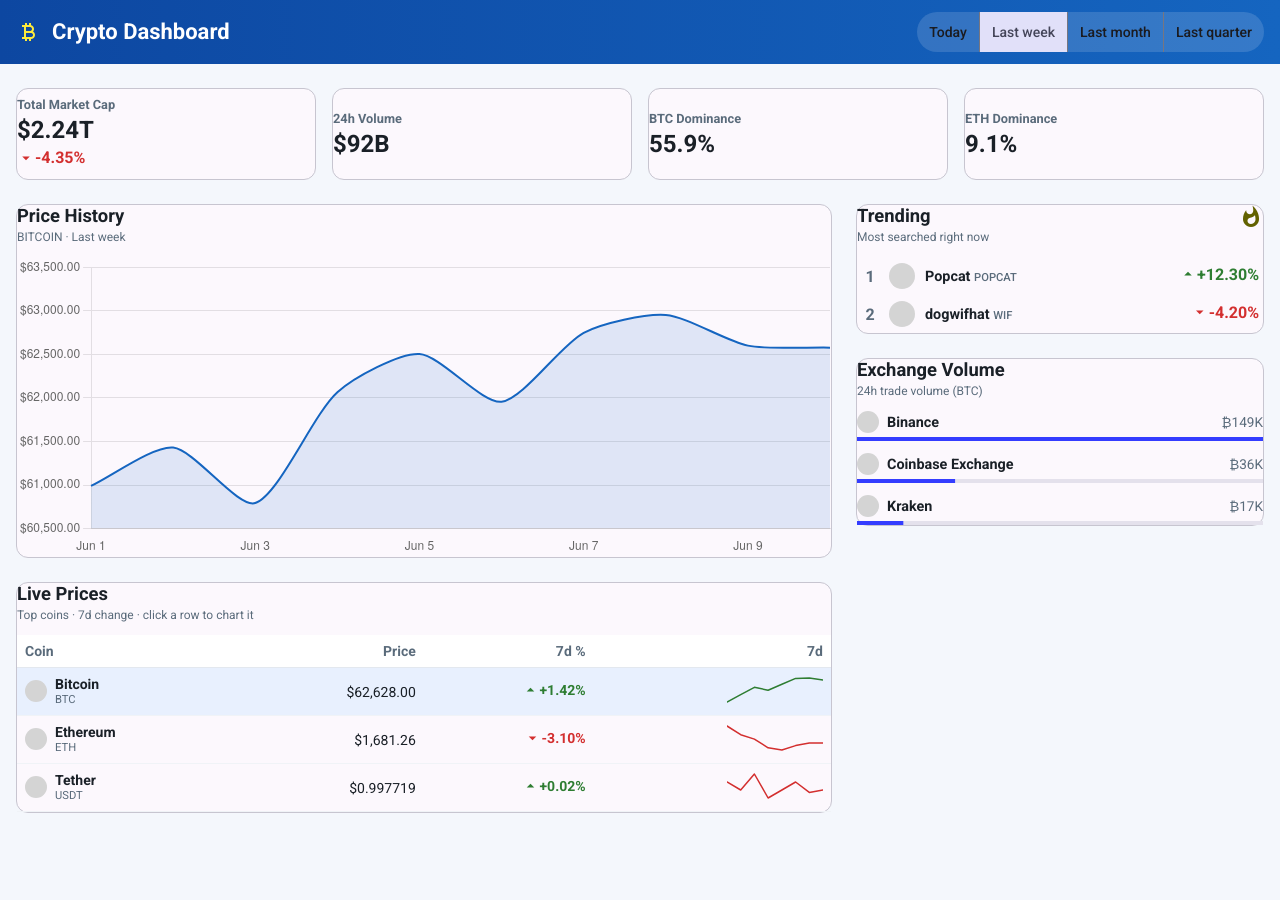
Crypto Dashboard — happy paths › filters by time period and refetches the chart for the new range
Step 1. Click the radio button "Last quarter" → point(1214, 32), box [1164,12,1264,52]
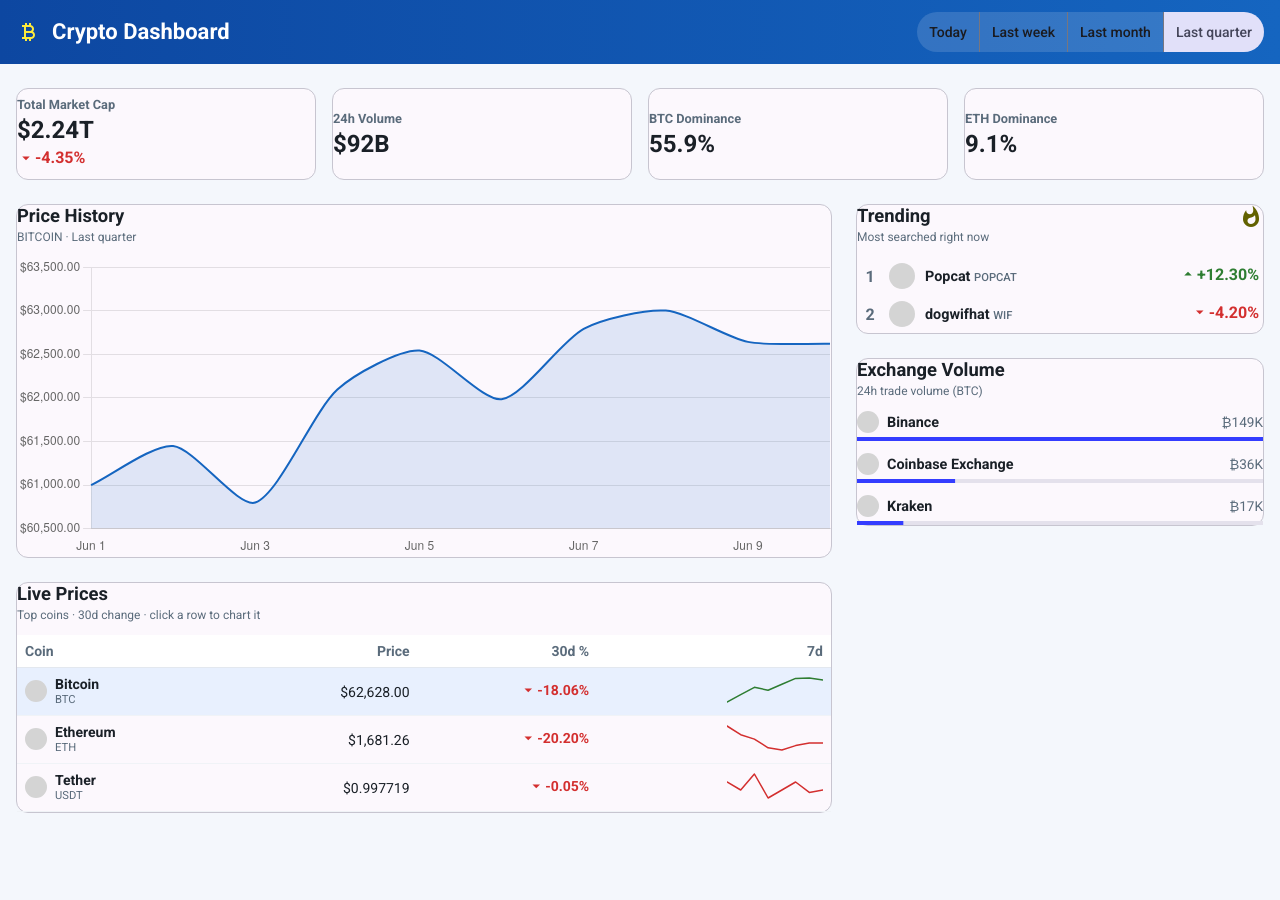
Expected: the text "BITCOIN · Last quarter" is shown, [17,230,136,244]
Expected: the column heading "30d %" is shown, [418,635,597,668]
